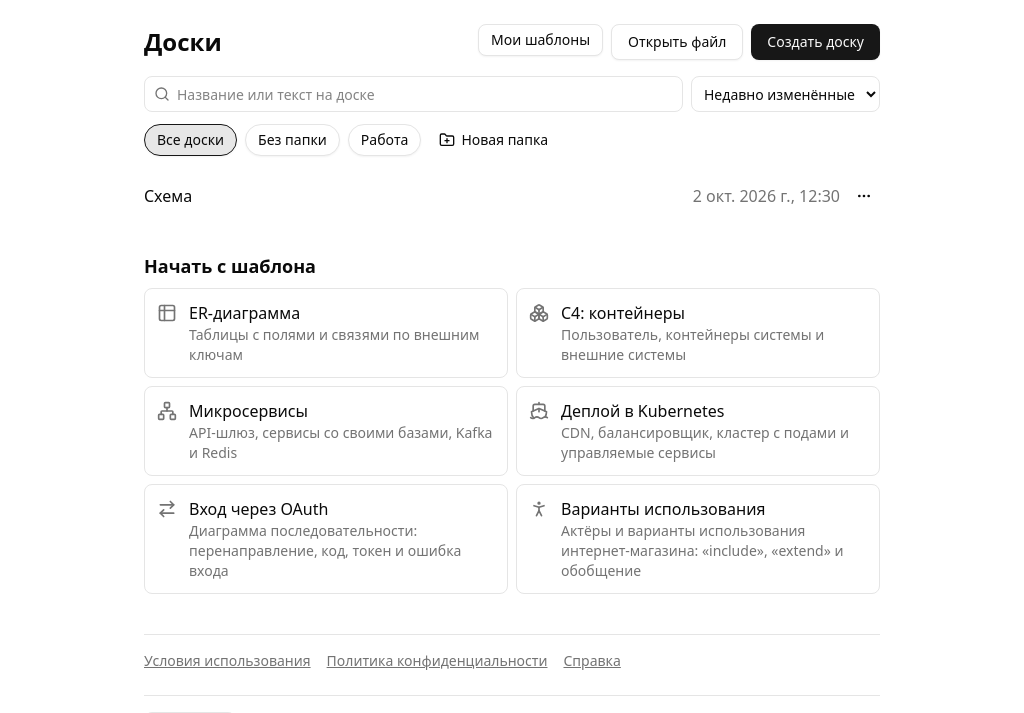
Scenario: BoardsPage folders › says that a folder of that name exists
Step 1. Click the button "Новая папка" → (494, 140), box [429, 124, 558, 156]
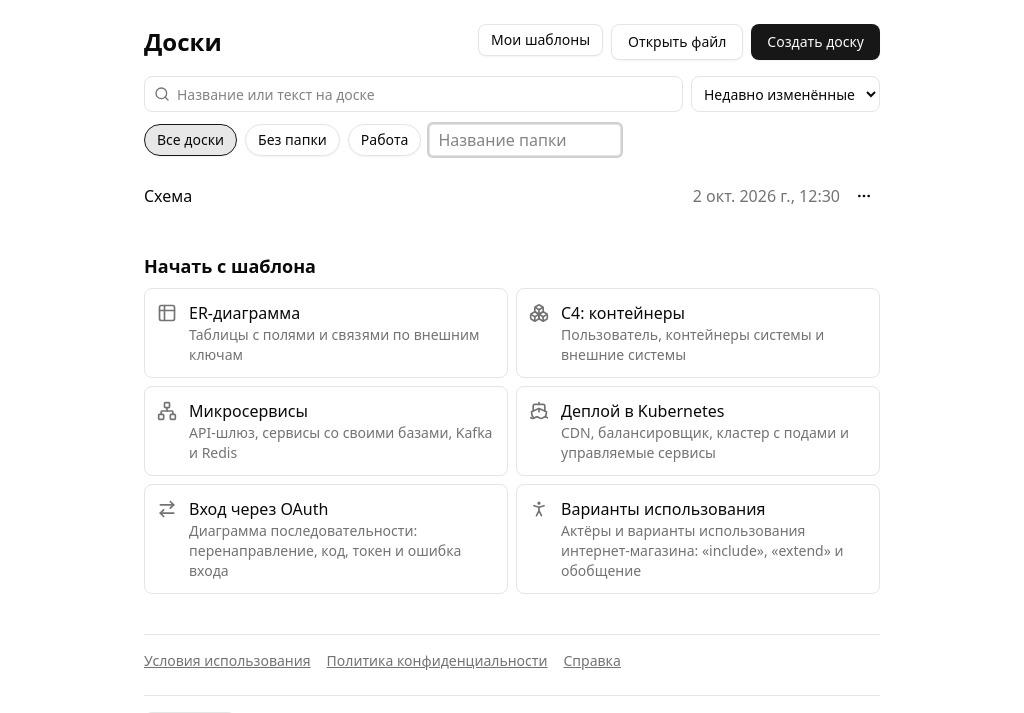
Step 2. Type "работа" into the field named "Новая папка" → (525, 140), box [429, 124, 621, 156]
Then press Enter
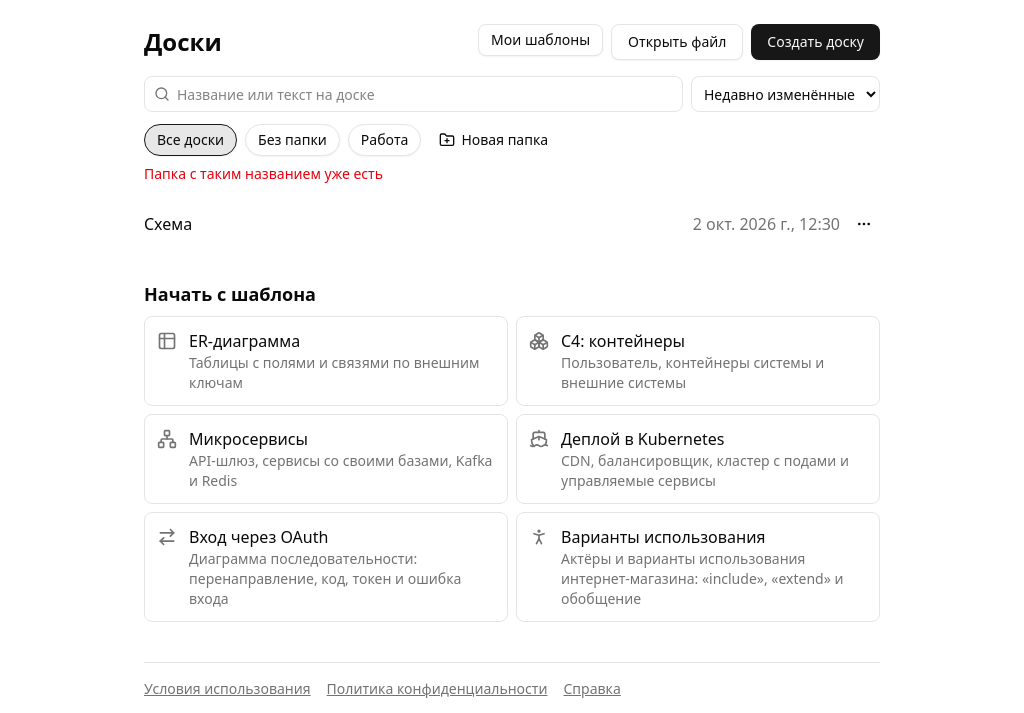
Check: the message reads "Папка с таким названием уже есть", box [144, 164, 383, 183]
